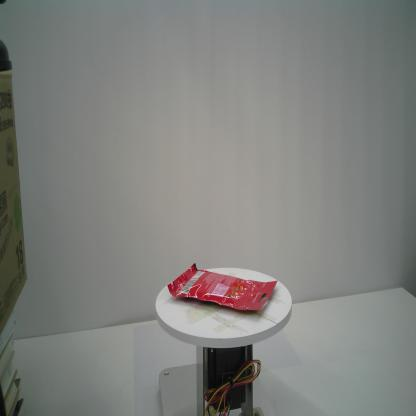Candy: (167, 262, 278, 314)
